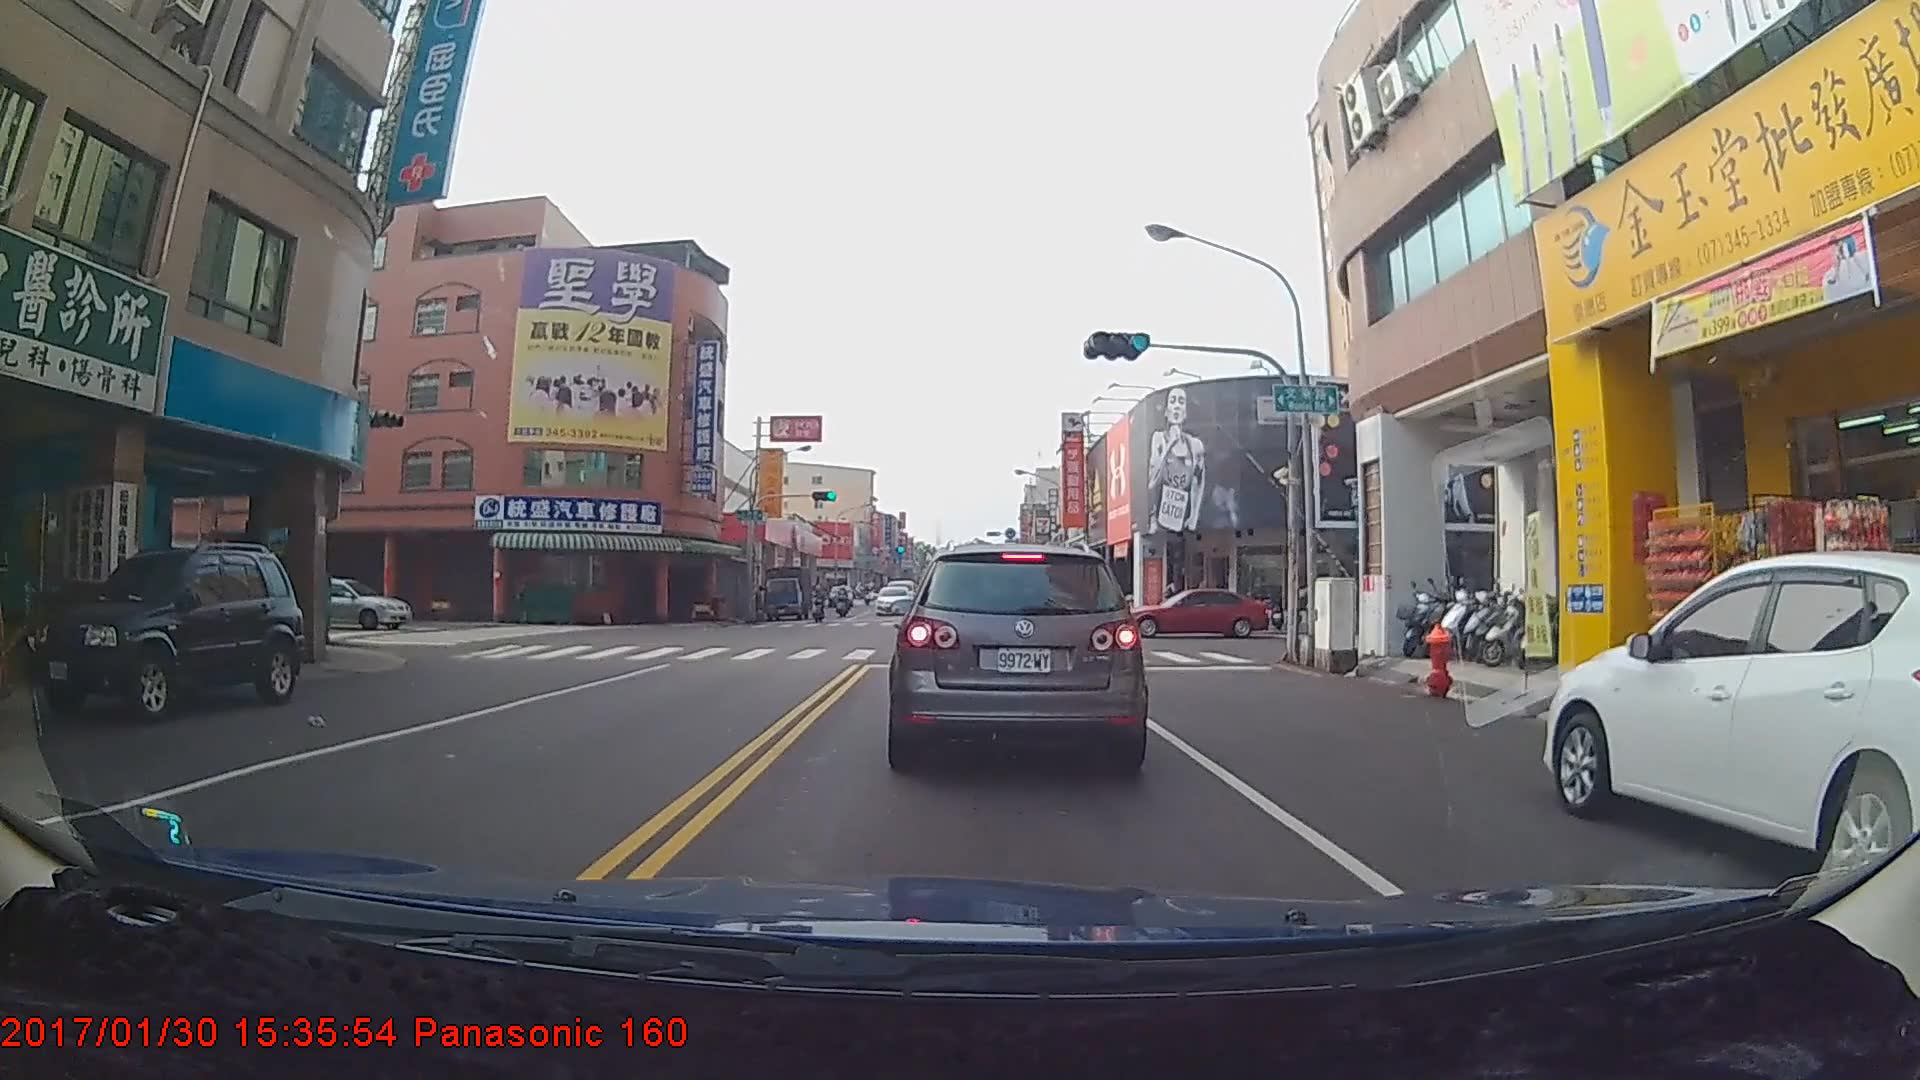rider: (803, 587, 830, 628), (835, 590, 856, 625)
vehicle: (1543, 552, 1919, 914), (892, 534, 1142, 770), (31, 542, 304, 725), (1116, 583, 1268, 635), (274, 574, 414, 627), (760, 568, 815, 625), (872, 584, 911, 616)
